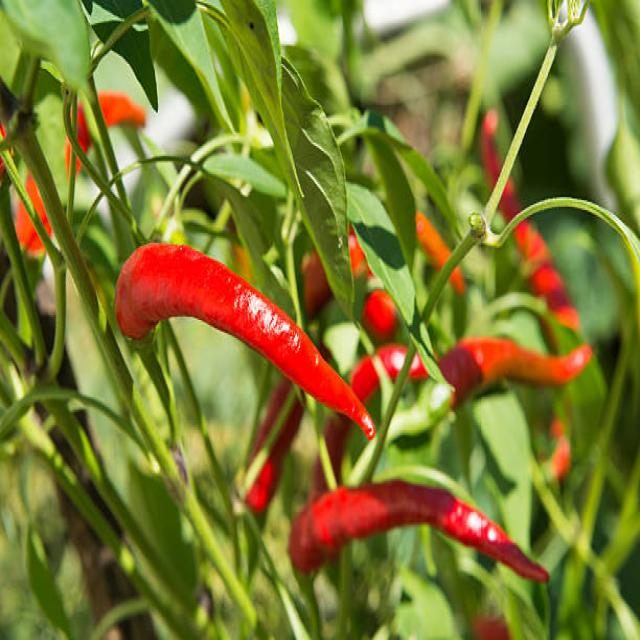Ripe: (115, 243, 375, 438), (289, 481, 549, 582), (439, 339, 592, 407)
